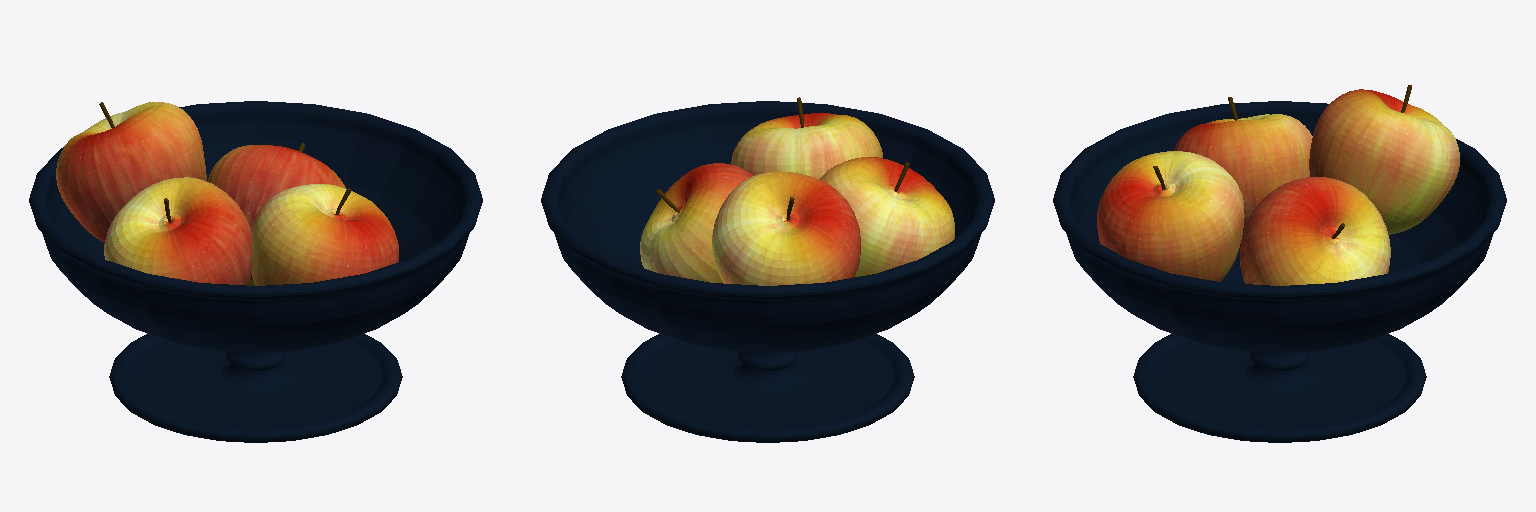
3 renders of one model, left to right at view 1: azimuth 30°, elevation 25°; view 2: azimuth 150°, elevation 25°; view 3: azimuth 270°, elevation 25°, orthographic.
Parts seen in each view (by area): view 1: jar_Plane, apple2_Tube.002, apple2.003_Tube.005, apple2.001_Tube.001, apple2.002_Tube.004; view 2: jar_Plane, apple2.003_Tube.005, apple2_Tube.002, apple2.002_Tube.004, apple2.001_Tube.001; view 3: jar_Plane, apple2.001_Tube.001, apple2.003_Tube.005, apple2.002_Tube.004, apple2_Tube.002.
Part boxes in pixels (x1,y1,x2,y2): jar_Plane: (29,101,482,442); apple2_Tube.002: (104,177,251,285); apple2.003_Tube.005: (56,102,206,242); apple2.001_Tube.001: (252,184,398,285); apple2.002_Tube.004: (207,143,345,285); jar_Plane: (541,101,994,442); apple2.003_Tube.005: (712,171,860,285); apple2_Tube.002: (819,157,954,276); apple2.002_Tube.004: (640,163,753,283); apple2.001_Tube.001: (731,97,882,178); jar_Plane: (1053,101,1506,442); apple2.001_Tube.001: (1097,151,1244,281); apple2.003_Tube.005: (1309,85,1459,234); apple2.002_Tube.004: (1240,177,1390,285); apple2_Tube.002: (1174,97,1312,249).
Size of the model in its own units: 1 by 0.6225 by 1.
Materials: 3 (1 with a texture image).